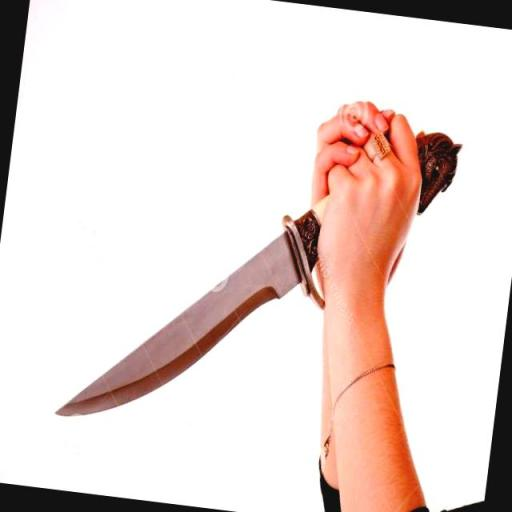knife: (54, 82, 461, 458)
